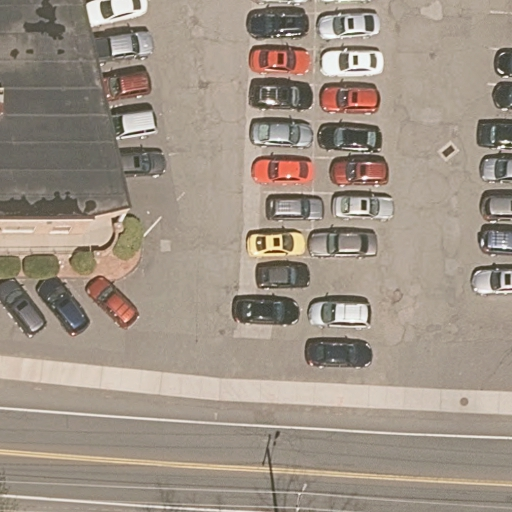DT: (282, 481, 310, 512)
